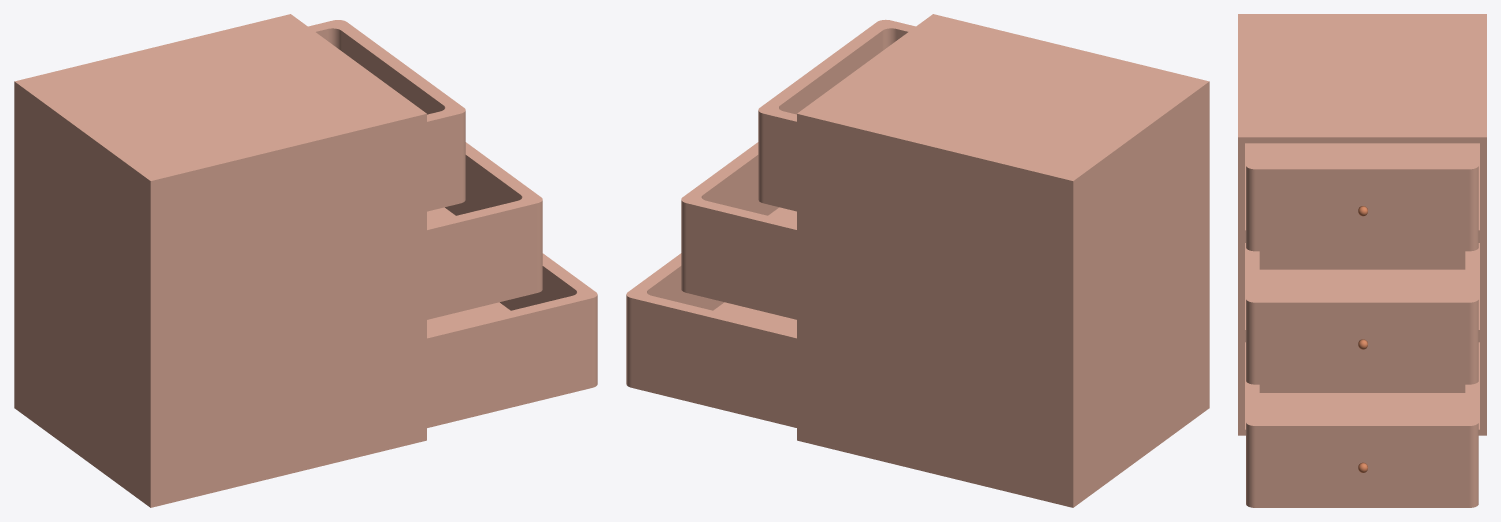
Rendered from Chater01_Drawer.fbx.
The picture shows the model from 3 angles, left to right: view 1: azimuth 30°, elevation 25°; view 2: azimuth 150°, elevation 25°; view 3: azimuth 270°, elevation 25°; orthographic projection. The views are drawn at different scales.
Visible parts, largest first — view 1: Drawer.Body, Drawer.Box3, Drawer.Box2, Drawer.Box1; view 2: Drawer.Body, Drawer.Box3, Drawer.Box2, Drawer.Box1; view 3: Drawer.Body, Drawer.Box2, Drawer.Box3, Drawer.Box1.
Part boxes in pixels (box(x1,y1,x2,y2)): Drawer.Body: box(14, 14, 426, 507); Drawer.Box3: box(427, 253, 597, 427); Drawer.Box2: box(427, 142, 542, 319); Drawer.Box1: box(308, 20, 465, 211); Drawer.Body: box(797, 14, 1209, 507); Drawer.Box3: box(626, 253, 796, 427); Drawer.Box2: box(681, 142, 796, 319); Drawer.Box1: box(758, 19, 915, 211); Drawer.Body: box(1238, 14, 1486, 435); Drawer.Box2: box(1246, 248, 1478, 384); Drawer.Box3: box(1246, 381, 1478, 507); Drawer.Box1: box(1246, 143, 1478, 251).
Bounding box in the file's own units: 3126 × 2112 × 1597.
